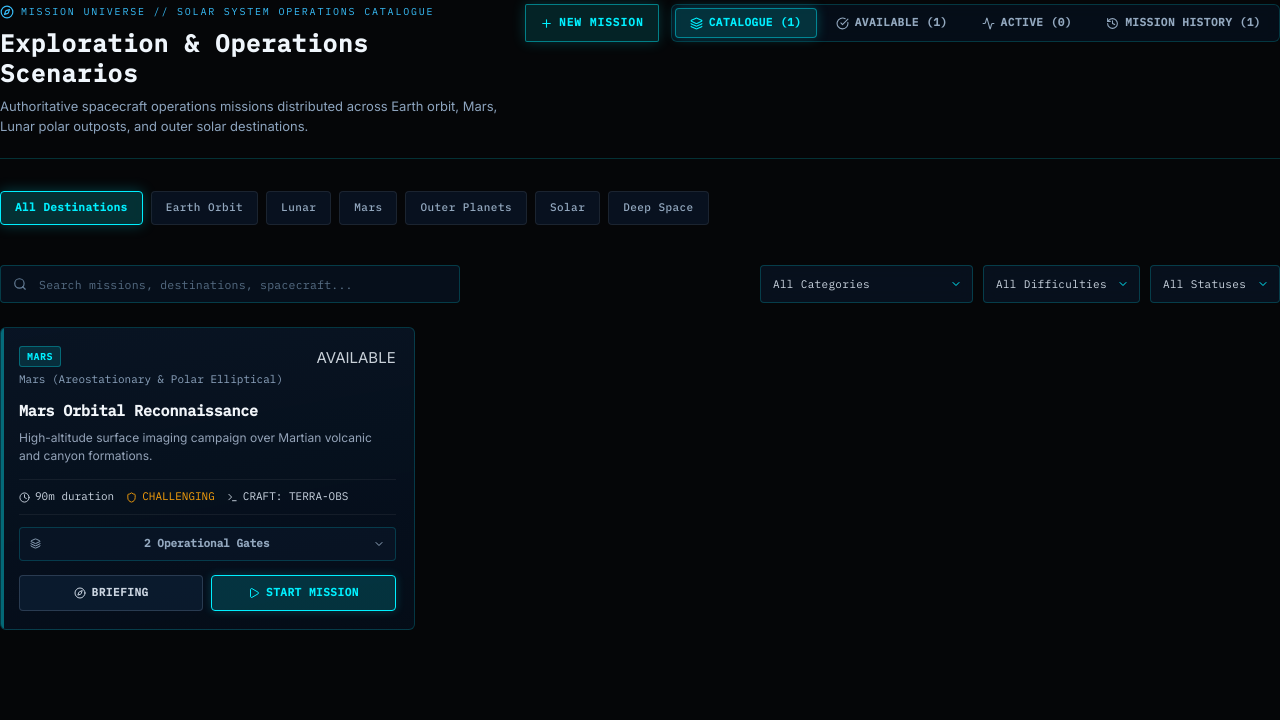
Test: ASTRA Mission Control Operations Console › renders deliberate navigation tabs for Catalogue and Mission History with real counts bound to data
The width and height of the screenshot is (1280, 720).
Expected: the tab with test id "tab-universe-catalogue" reads "CATALOGUE (1)", [675,8,817,38]
# Switch to history tab
Click the tab with test id "tab-universe-history" at coordinates (1184, 23), box [1091,8,1276,38]
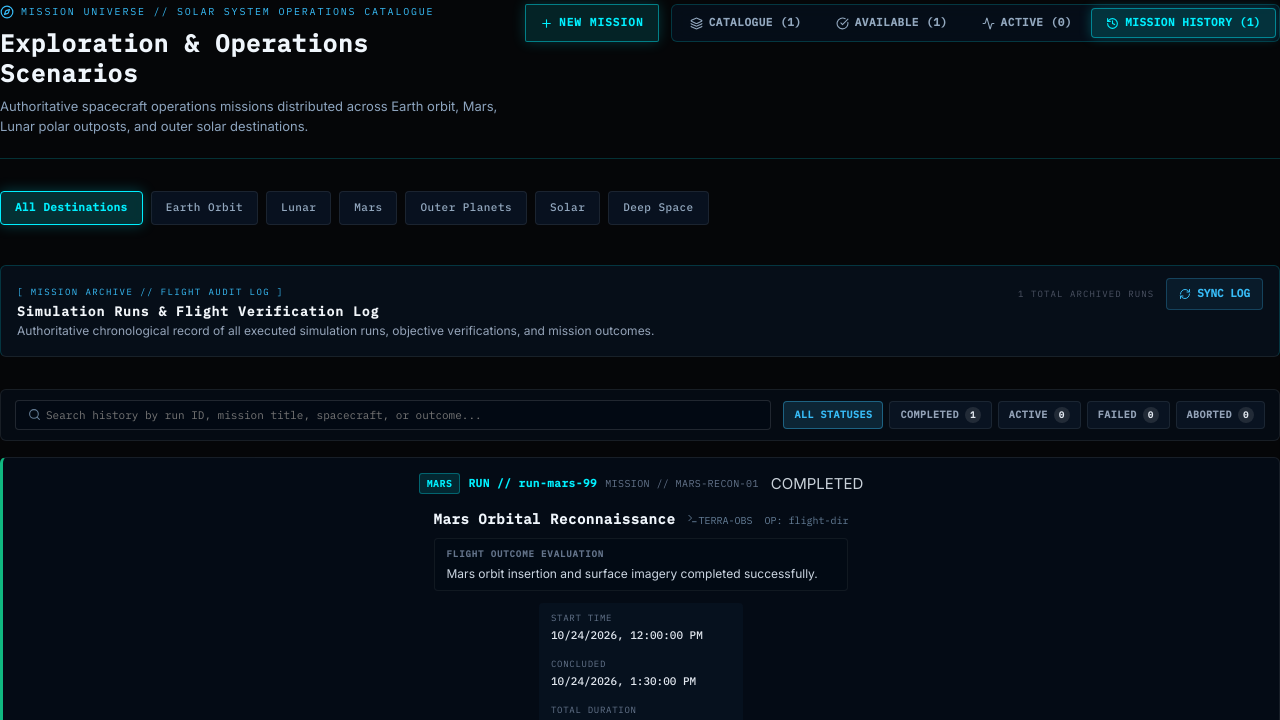
Result: the text "Mars orbit insertion and surface imagery completed successfully" is shown at [446,566,818,581]
